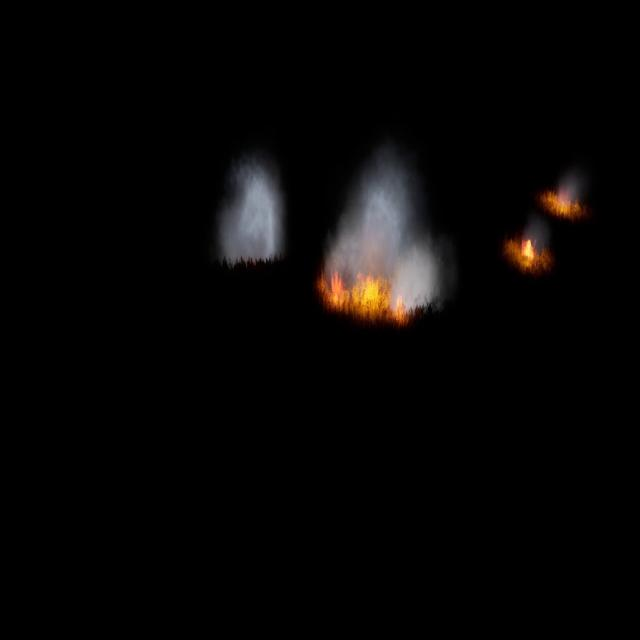fire: (317, 263, 409, 327), (523, 237, 537, 263)
smoke: (324, 138, 460, 314), (220, 144, 285, 269), (523, 220, 550, 266), (556, 170, 582, 212)
